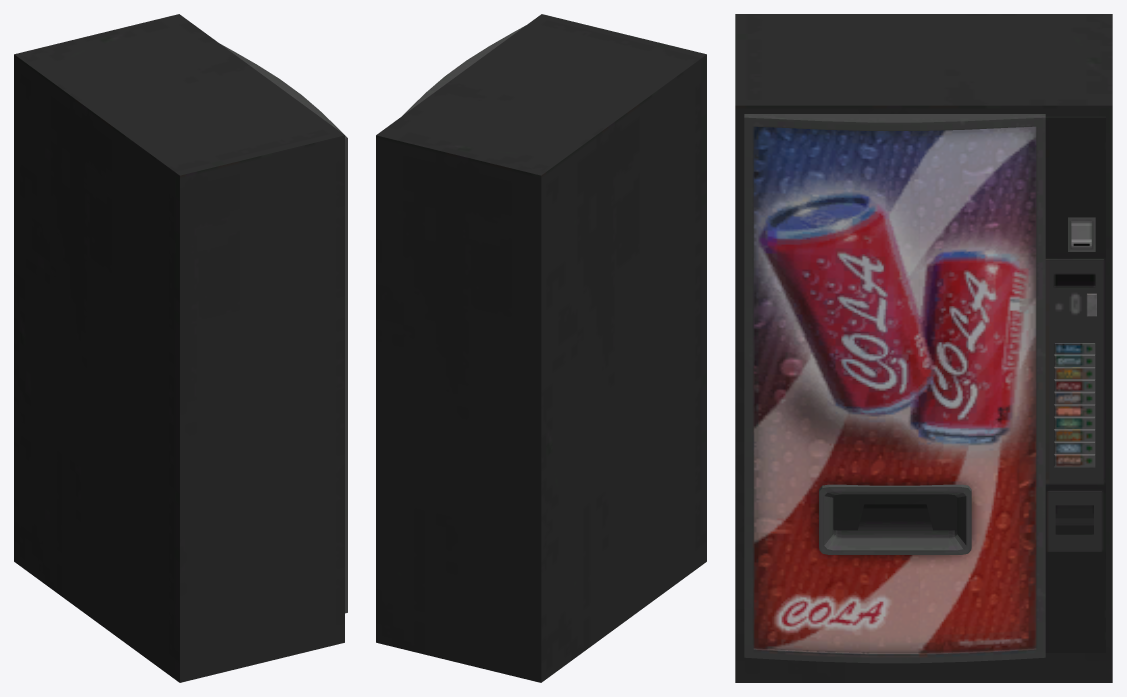
File: ItemSpot.fbx
The picture shows the model from 3 angles, left to right: view 1: azimuth 30°, elevation 25°; view 2: azimuth 150°, elevation 25°; view 3: azimuth 270°, elevation 25°; orthographic projection. The views are drawn at different scales.
Parts seen in each view (by area): view 1: ItemBox_VendingMachine_02; view 2: ItemBox_VendingMachine_02; view 3: ItemBox_VendingMachine_02.
Boxes of the visible parts, left/top/right/bottom form: ItemBox_VendingMachine_02: left=14, top=14, right=347, bottom=682; ItemBox_VendingMachine_02: left=376, top=14, right=706, bottom=682; ItemBox_VendingMachine_02: left=735, top=14, right=1112, bottom=682.
Size of the model in its own units: 0.7849 by 2.1 by 1.24.
1 material, 1 textured.
